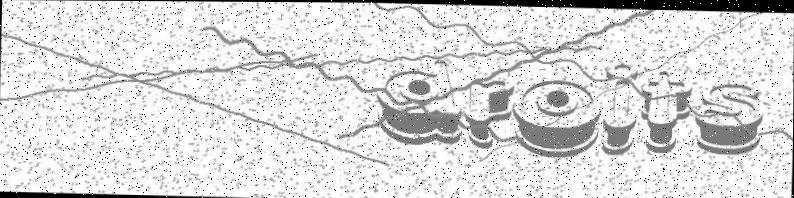d: (373, 54, 466, 148)
i: (600, 59, 642, 155)
o: (513, 71, 601, 157)
r: (462, 74, 516, 151)
s: (697, 72, 767, 157)
t: (638, 63, 695, 157)
